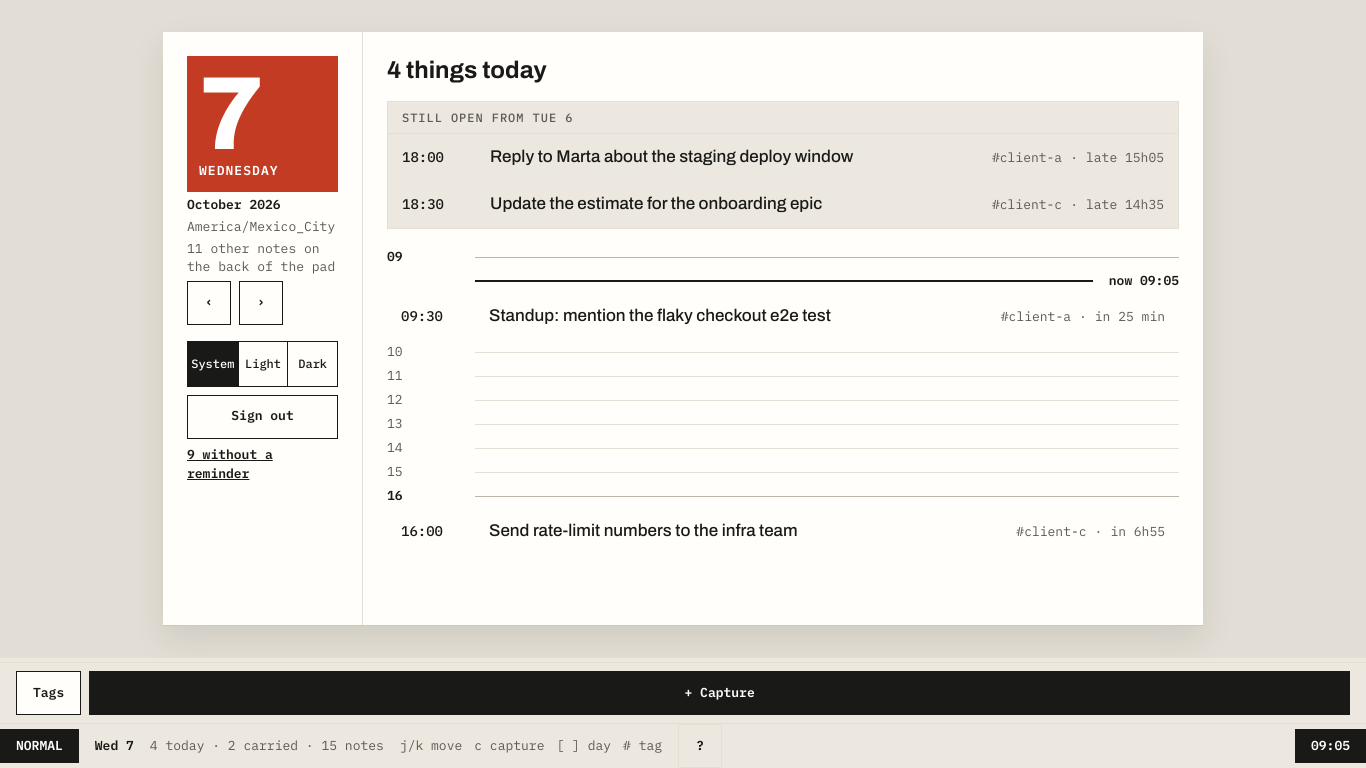
Test case: on a narrow screen › Done in the sheet marks the tapped row done through the same action
Expected: the heading "4 things today" is shown, [387,57,547,83]
Click the list item with aria-label "Reply to Marta about the staging deploy window, 18:00, late" at [783, 157], box [402,147,1164,166]
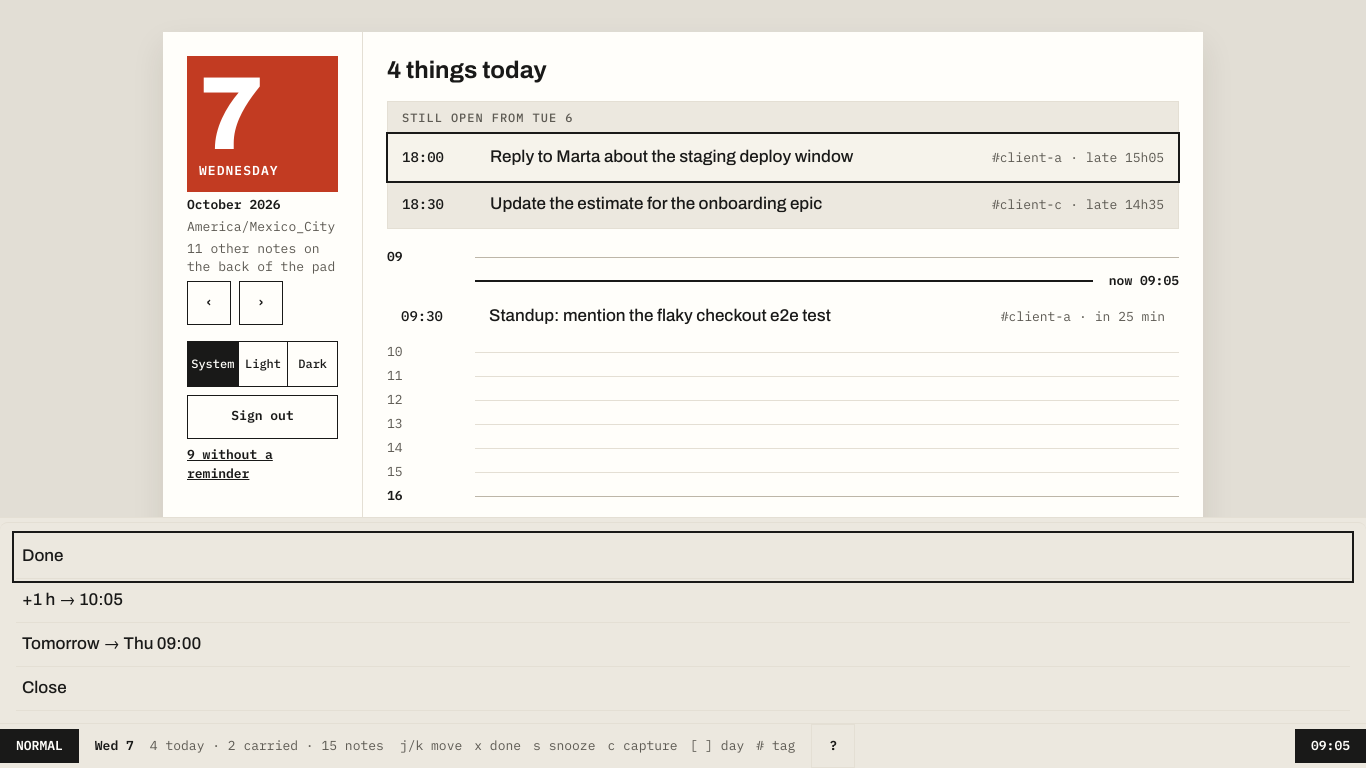
Click the button "Done" at [43, 556], box [16,535,1350,579]
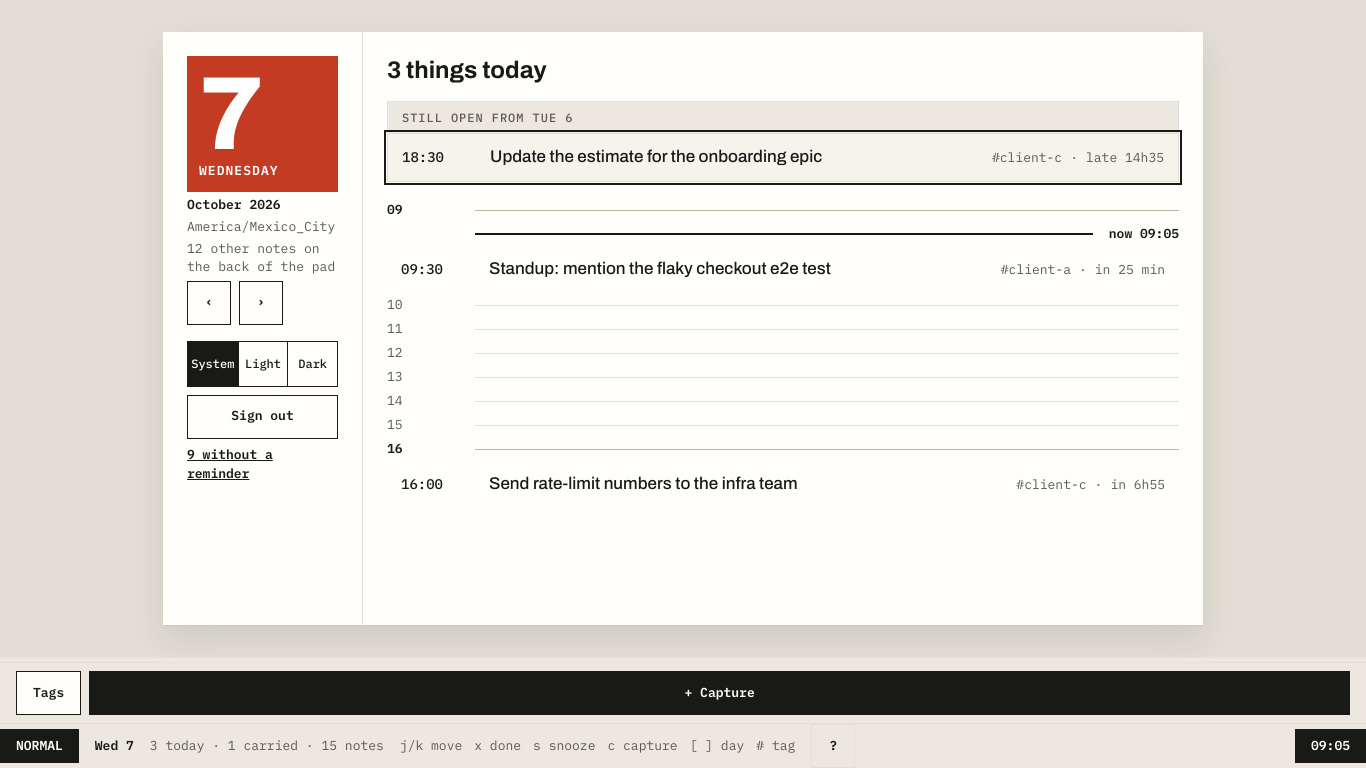
Expected: the dialog is gone
